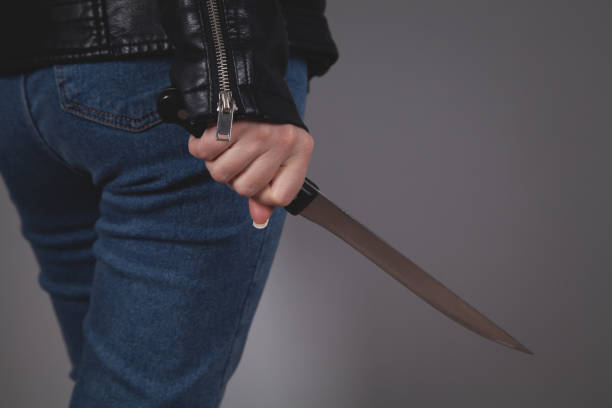knife: (156, 89, 536, 360)
